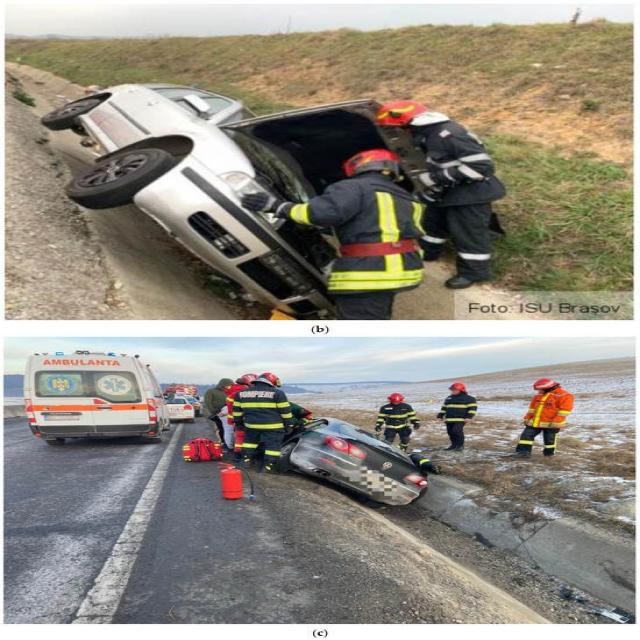Accident: (41, 72, 520, 316), (172, 367, 445, 518)
